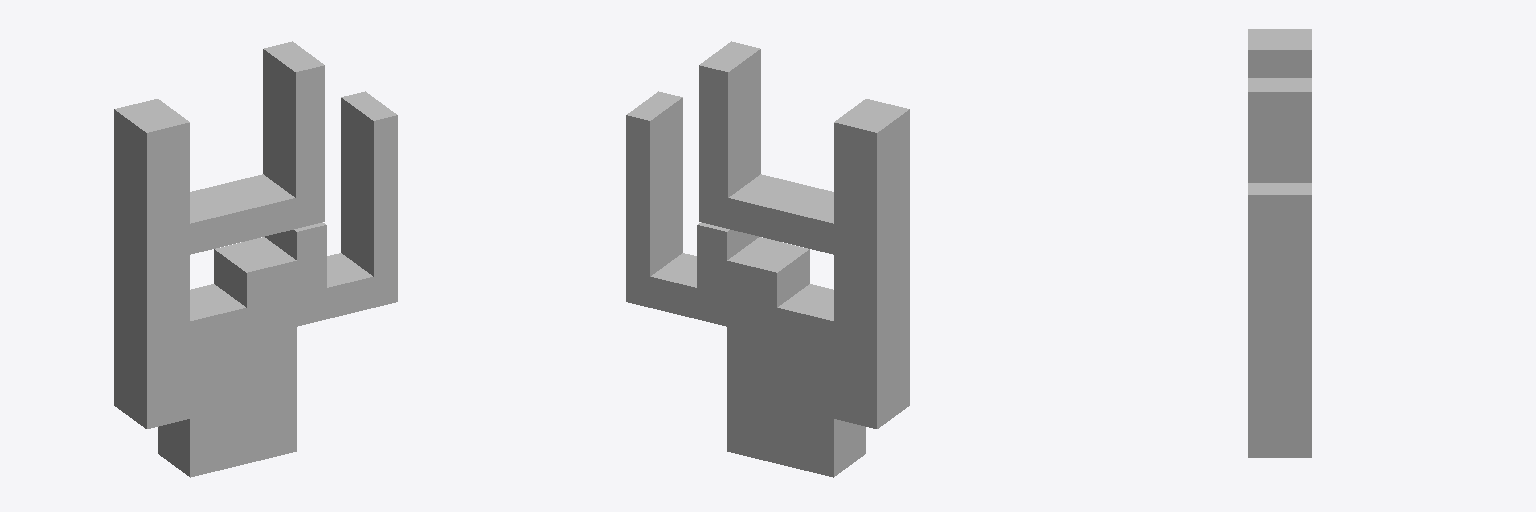
The model's file is dark_idol.obj.
3 views of the same model, side by side, from view 1: azimuth 30°, elevation 25°; view 2: azimuth 150°, elevation 25°; view 3: azimuth 270°, elevation 25° (orthographic).
Visible parts, largest first — view 1: Cube; view 2: Cube; view 3: Cube.
Part boxes in pixels (bbox=[...]): Cube: bbox=[114, 41, 397, 477]; Cube: bbox=[626, 41, 909, 477]; Cube: bbox=[1248, 29, 1311, 457].
Size of the model in its own units: 8.94 by 12.9 by 2.